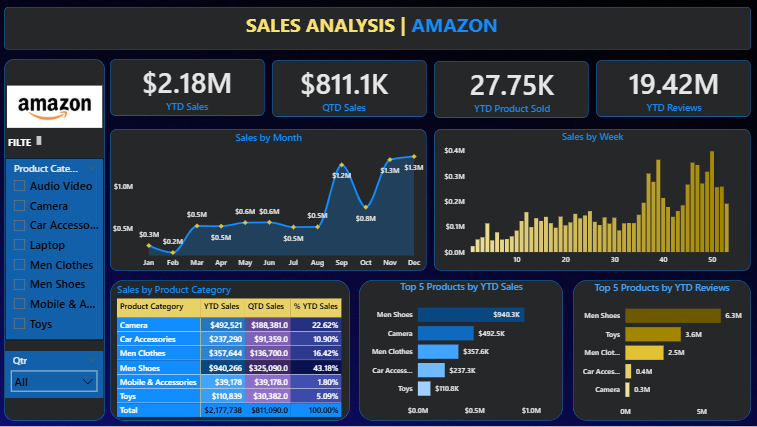

The dashboard page shown, as its layout file describes it:
{"tool":"powerbi","page":{"name":"Page 1","canvas":[1280,720],"ordinal":0},"visuals":[{"type":"shape","box":[11.8,11.8,1254.8,72.2],"z":0},{"type":"textbox","box":[413.2,13.4,453.5,55.4],"z":1},{"type":"shape","box":[11.8,99.1,169.7,608.1],"z":2},{"type":"shape","box":[189.8,99.8,260.4,95.7],"z":3,"group":"g1"},{"type":"card","fields":{"Values":["Measures (2).YTD Sales"]},"box":[216.7,101.5,204.9,94.1],"z":4,"group":"g1"},{"type":"shape","box":[461.9,101.5,260.4,95.7],"z":5,"group":"g1"},{"type":"card","fields":{"Values":["Measures (2).QTD Sales"]},"box":[480.4,103.2,204.9,94.1],"z":6,"group":"g1"},{"type":"shape","box":[734.1,103.2,260.4,95.7],"z":7,"group":"g1"},{"type":"shape","box":[1006.2,101.5,260.4,95.7],"z":8,"group":"g1"},{"type":"card","fields":{"Values":["Measures (2).YTD Product Sold"]},"box":[762.6,104.8,204.9,94.1],"z":9,"group":"g1"},{"type":"card","fields":{"Values":["Measures (2).YTD Reviews"]},"box":[1034.7,103.2,204.9,94.1],"z":10,"group":"g1"},{"type":"group","id":"g1","title":"Group 1","box":[189.8,99.8,1076.7,99.1],"z":11},{"type":"shape","box":[189.8,216.7,532.5,238.5],"z":12},{"type":"areaChart","title":"Sales by Month","fields":{"Category":["Date Table.Month Name"],"Y":["Sum(Amazon_Data.Price(Dollar))"]},"box":[189.8,220.1,532.5,238.5],"z":13},{"type":"shape","box":[734.1,216.7,532.5,238.5],"z":14,"group":"g2"},{"type":"columnChart","title":"Sales by Week","fields":{"Category":["Date Table.Week No."],"Y":["Sum(Amazon_Data.Price(Dollar))"]},"box":[745.9,218.4,509,235.2],"z":15,"group":"g2"},{"type":"group","id":"g2","title":"Group 2","box":[734.1,216.7,532.5,238.5],"z":16},{"type":"shape","box":[189.8,470.3,403.1,236.9],"z":17},{"type":"pivotTable","title":"Sales by Product Category","fields":{"Rows":["Amazon_Data.Product Category"],"Values":["Measures (2).YTD Sales1","Measures (2).QTD Sales","Measures (2).YTD Sales"]},"box":[196.5,475.4,396.4,231.8],"z":18},{"type":"shape","box":[608.1,470.3,342.7,236.9],"z":19,"group":"g3"},{"type":"shape","box":[967.6,470.3,299,236.9],"z":20,"group":"g4"},{"type":"clusteredBarChart","title":"Top 5 Products by YTD Sales","fields":{"Category":["Amazon_Data.Product Category"],"Y":["Measures (2).YTD Sales"]},"box":[608.1,470.3,344.4,236.9],"z":21,"group":"g3"},{"type":"clusteredBarChart","title":"Top 5 Products by YTD Reviews","fields":{"Category":["Amazon_Data.Product Category"],"Y":["Measures (2).YTD Reviews"]},"box":[967.6,472,299,236.9],"z":22,"group":"g4"},{"type":"slicer","fields":{"Values":["Amazon_Data.Product Category"]},"box":[13.4,265.4,166.3,305.7],"z":23},{"type":"group","id":"g3","title":"Group 3","box":[608.1,470.3,344.4,236.9],"z":24},{"type":"group","id":"g4","title":"Group 4","box":[967.6,470.3,299,238.5],"z":25},{"type":"slicer","fields":{"Values":["Date Table.Qtr"]},"box":[13.4,589.6,164.6,79],"z":26},{"type":"image","box":[11.8,100.8,169.7,157.9],"z":27},{"type":"textbox","box":[13.4,223.4,65.5,35.3],"z":28}]}

Visuals, with their boxes in screenshot pixels (x1, y1, x2, y2), scaled from the page's 1280x720 canvas onto the 757x427 screenshot:
shape: detection(7, 7, 749, 50)
textbox: detection(244, 8, 513, 41)
shape: detection(7, 59, 107, 419)
shape: detection(112, 59, 266, 116)
card - Measures (2).YTD Sales: detection(128, 60, 249, 116)
shape: detection(273, 60, 427, 117)
card - Measures (2).QTD Sales: detection(284, 61, 405, 117)
shape: detection(434, 61, 588, 118)
shape: detection(595, 60, 749, 117)
card - Measures (2).YTD Product Sold: detection(451, 62, 572, 118)
card - Measures (2).YTD Reviews: detection(612, 61, 733, 117)
"Group 1" group: detection(112, 59, 749, 118)
shape: detection(112, 129, 427, 270)
"Sales by Month" areaChart: detection(112, 131, 427, 272)
shape: detection(434, 129, 749, 270)
"Sales by Week" columnChart: detection(441, 130, 742, 269)
"Group 2" group: detection(434, 129, 749, 270)
shape: detection(112, 279, 351, 419)
"Sales by Product Category" pivotTable: detection(116, 282, 351, 419)
shape: detection(360, 279, 562, 419)
shape: detection(572, 279, 749, 419)
"Top 5 Products by YTD Sales" clusteredBarChart: detection(360, 279, 563, 419)
"Top 5 Products by YTD Reviews" clusteredBarChart: detection(572, 280, 749, 420)
slicer - Amazon_Data.Product Category: detection(8, 157, 106, 339)
"Group 3" group: detection(360, 279, 563, 419)
"Group 4" group: detection(572, 279, 749, 420)
slicer - Date Table.Qtr: detection(8, 350, 105, 397)
image: detection(7, 60, 107, 153)
textbox: detection(8, 132, 47, 153)
